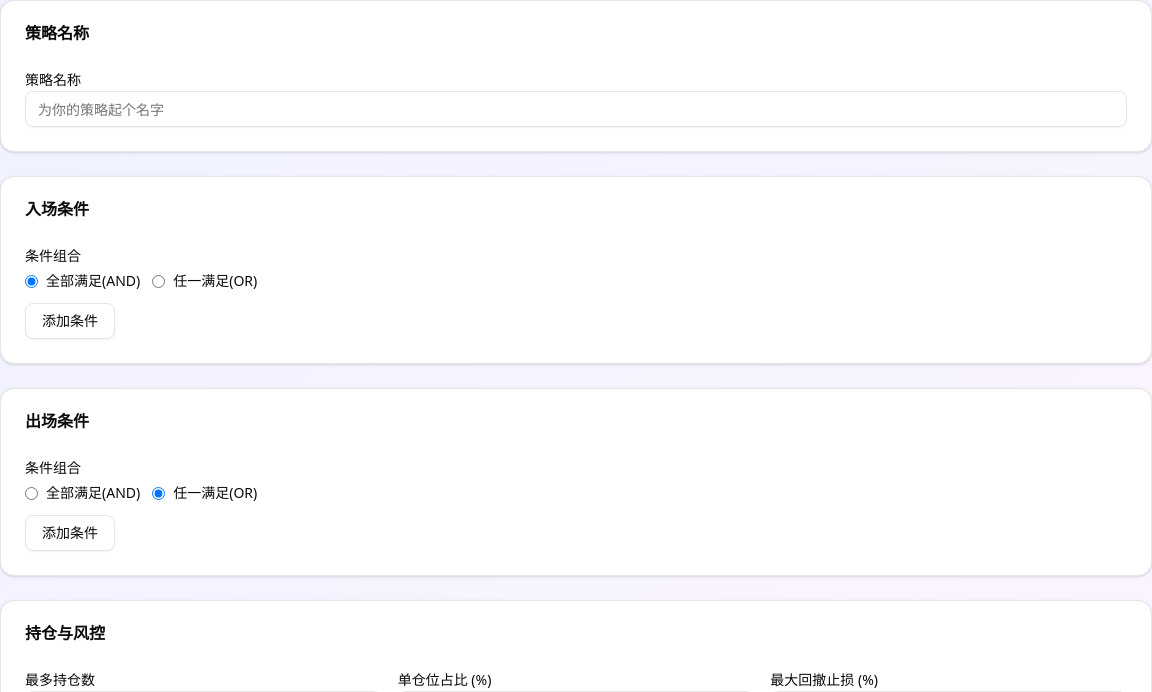
StrategyForm › adds entry condition when add button clicked
Click the button "添加条件" below "入场条件" at coordinates (70, 321), box [25,303,115,339]
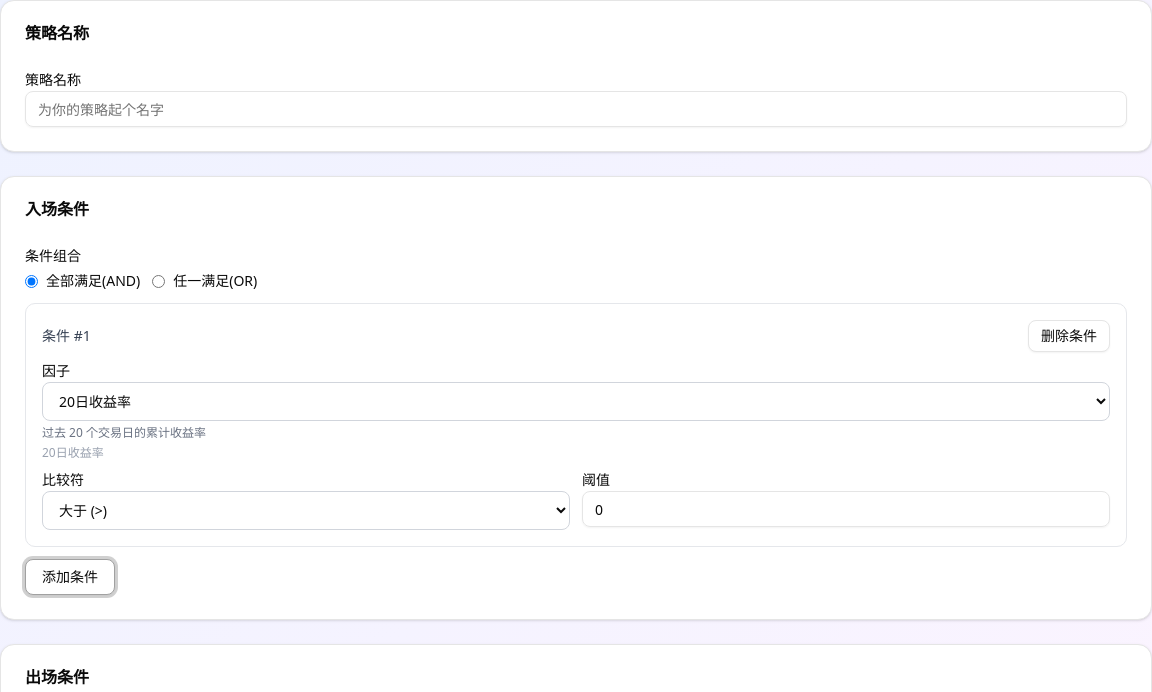
expect the text "条件 #1" is shown: met, box [42,326,91,346]
